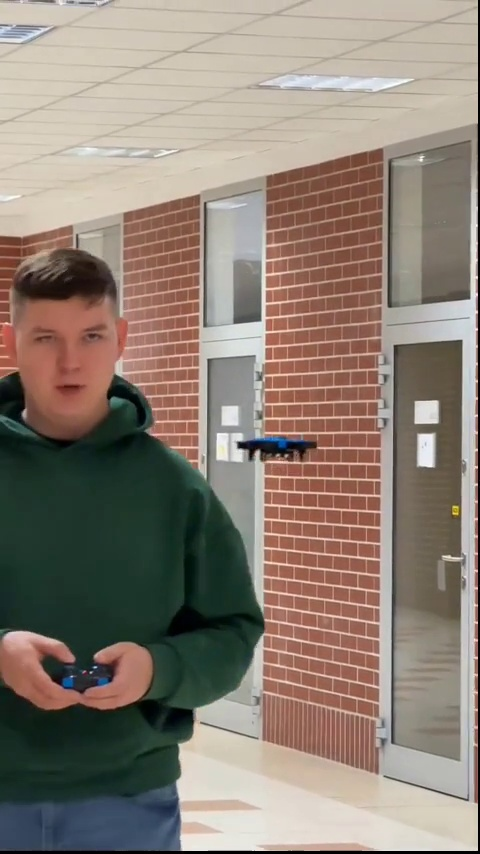drone: (238, 435, 318, 467)
no vest: (2, 246, 266, 842)
